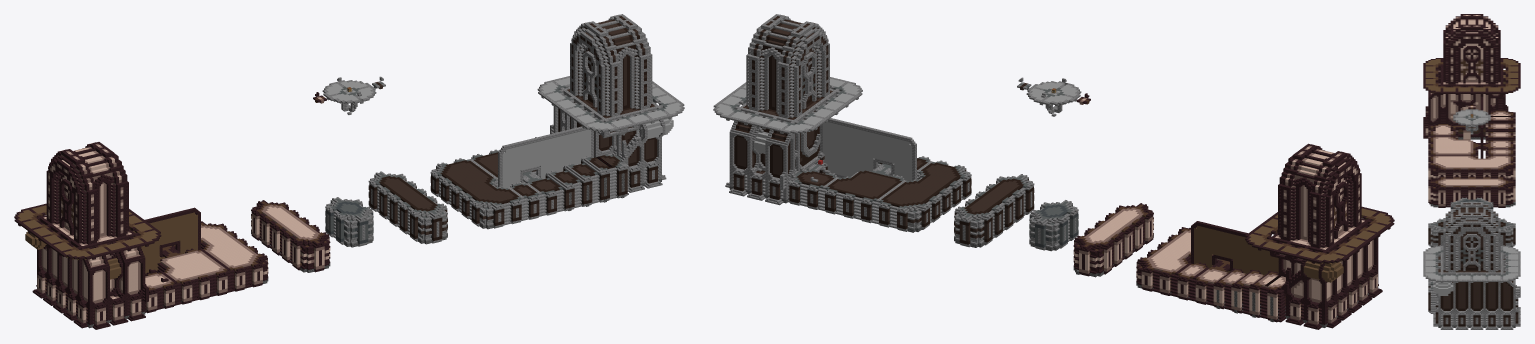
The model's file is minecraft.obj.
The picture shows the model from 3 angles, left to right: view 1: azimuth 30°, elevation 25°; view 2: azimuth 150°, elevation 25°; view 3: azimuth 270°, elevation 25°; orthographic projection. The views are drawn at different scales.
Bounding box in the file's own units: 2110 × 490 × 390.
